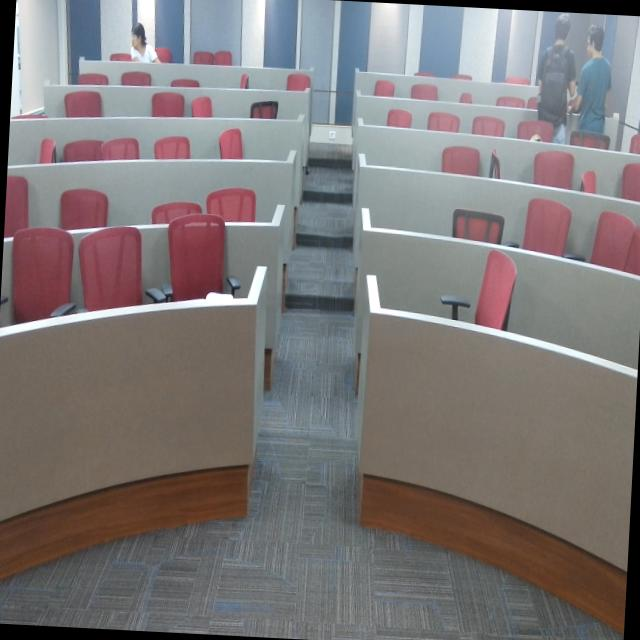cheating: (125, 13, 158, 78)
